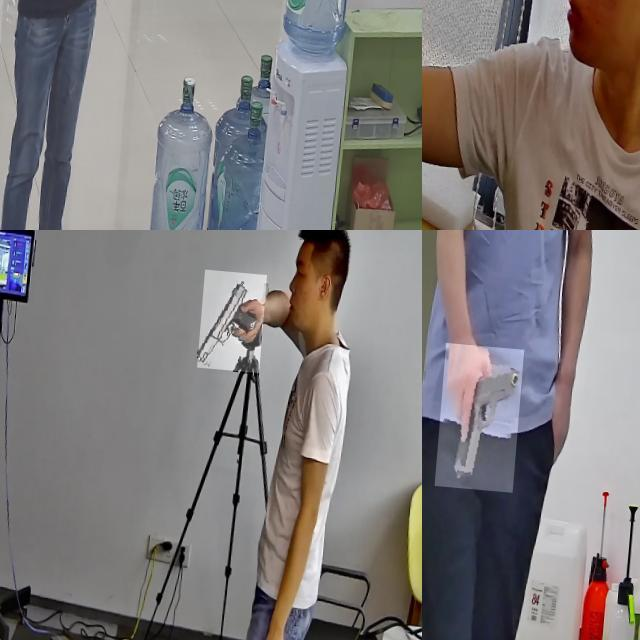gun-knife-thesis - v11 Yolov5 augmented: (442, 339, 530, 487), (422, 0, 505, 98), (202, 266, 270, 368), (48, 0, 87, 46)
